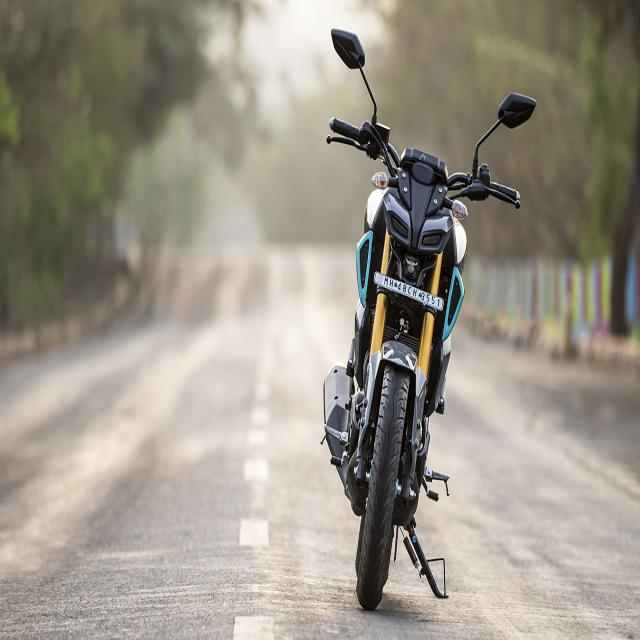Bike: (319, 80, 535, 614)
